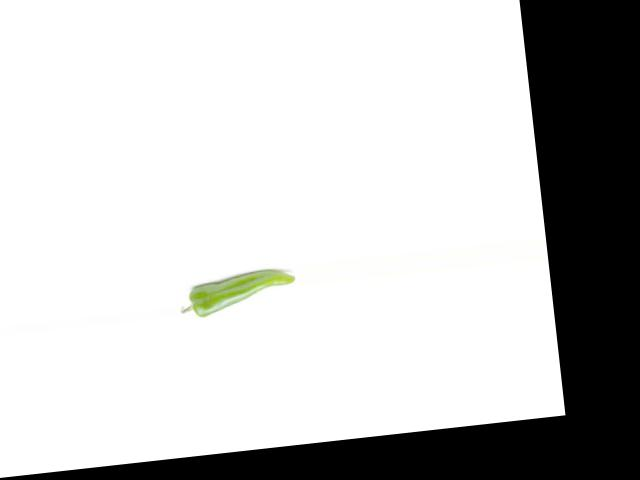bell_pepper: (172, 264, 299, 322)
